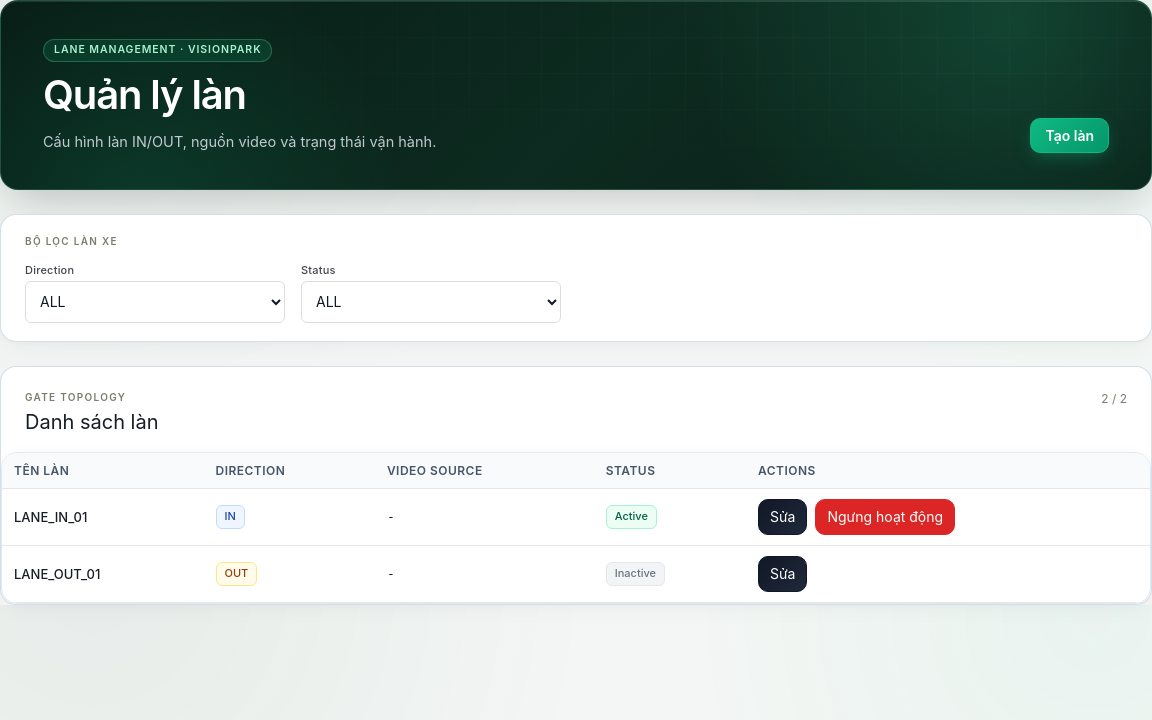
Test: LaneListPage › filters by direction
This screenshot has width=1152, height=720.
Expected: the text "LANE_IN_01" is shown, [2,488,204,545]
Expected: the text "LANE_OUT_01" is shown, [2,545,204,602]
Select "IN" in the dropdown labelled "Direction" at (155, 302), box [25,281,285,323]
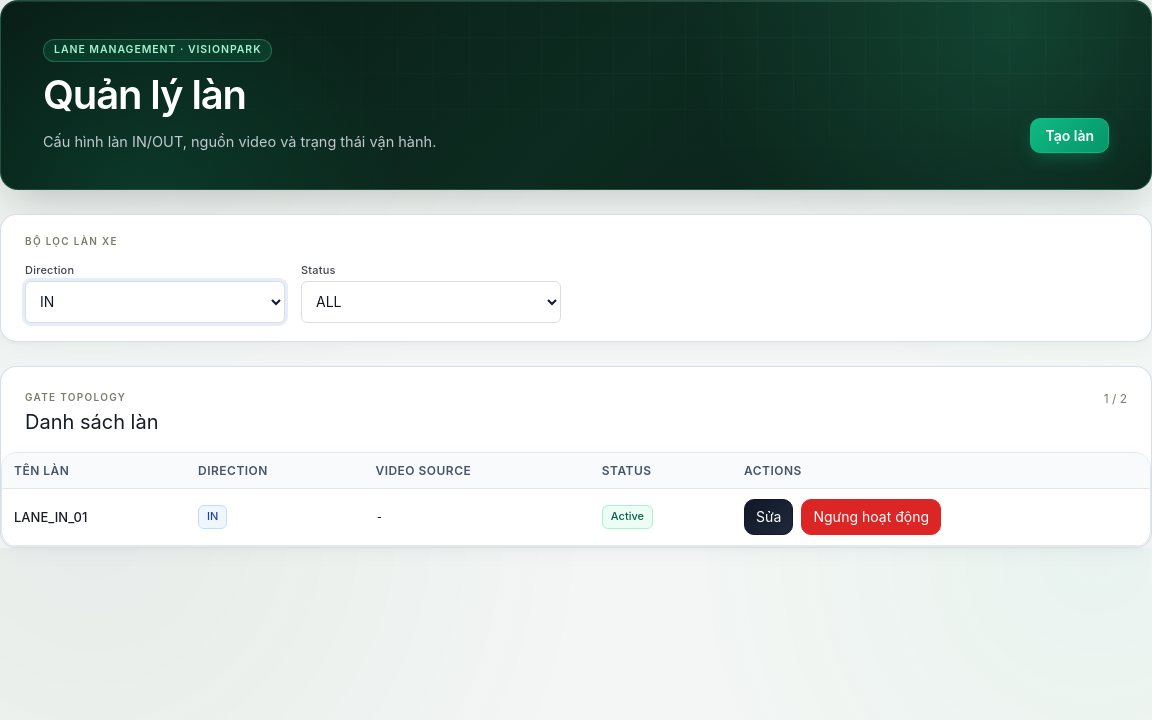
Expected: the text "LANE_IN_01" is shown, [2,488,186,545]
Now the text "LANE_OUT_01" is gone
